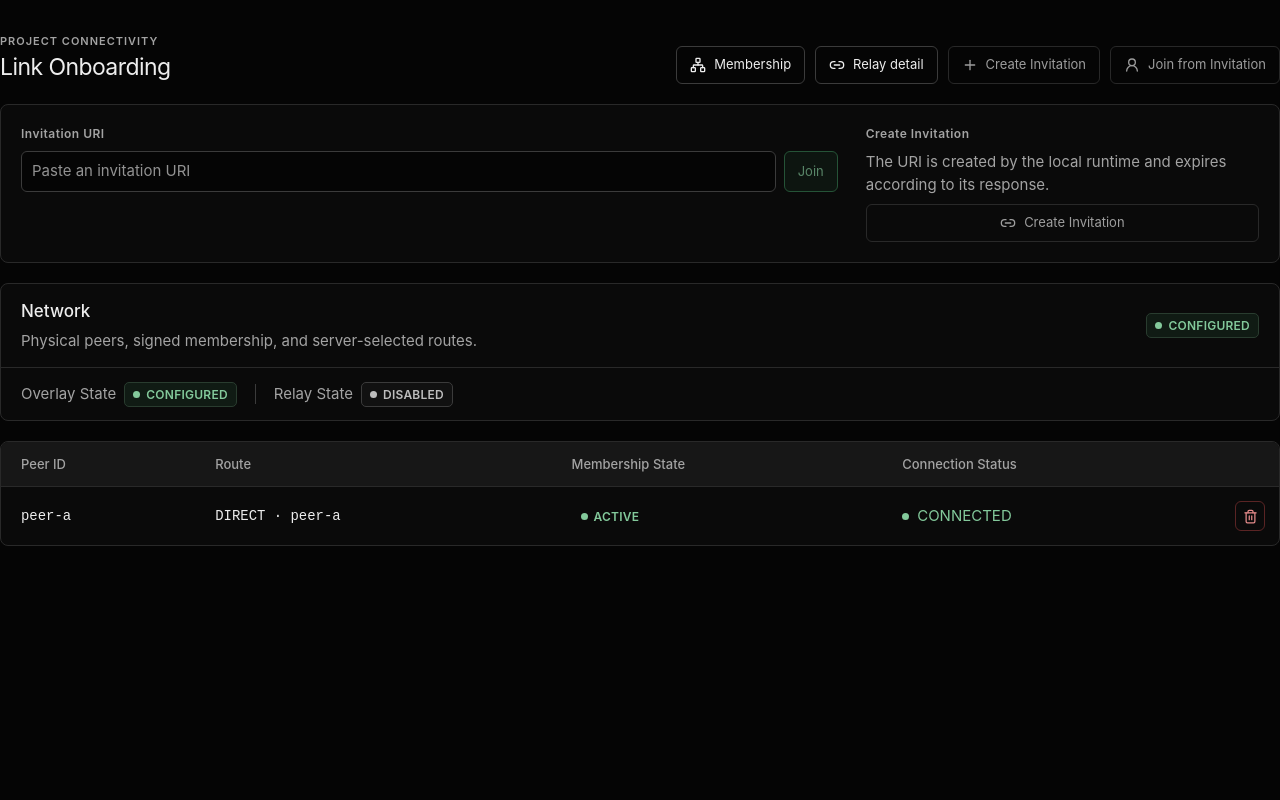
truthful product states › opens connection details from a network row and removes the route widget
Click the row "peer-a DIRECT · peer-a ACTIVE CONNECTED". click: {"x": 640, "y": 516}
box: left=1, top=487, right=1279, bottom=545
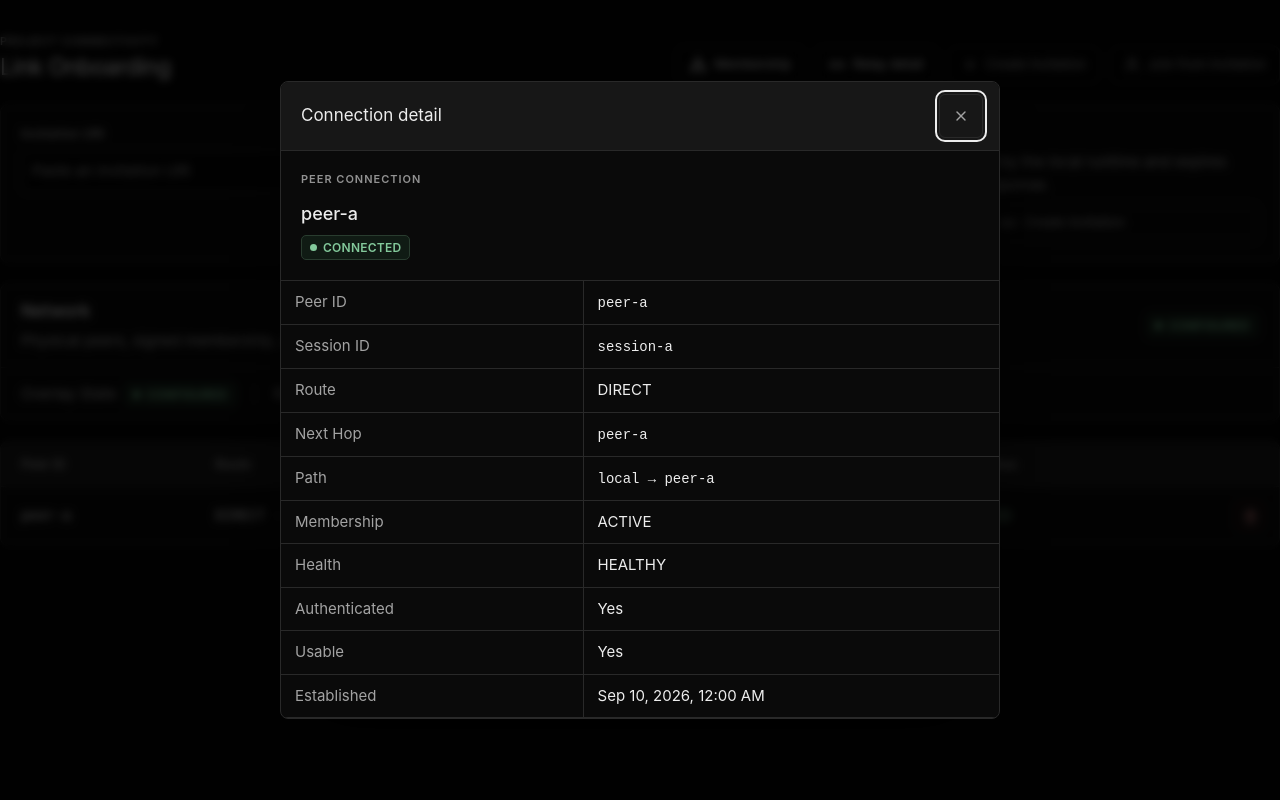
expect the dialog is shown: met, box left=280, top=81, right=1000, bottom=719
expect the heading "peer-a" is shown: met, box left=301, top=203, right=358, bottom=224
expect the text "local → peer-a" is shown: met, box left=598, top=471, right=715, bottom=487
Click the button named "Close connection detail". click: {"x": 961, "y": 116}
box: left=939, top=94, right=983, bottom=138
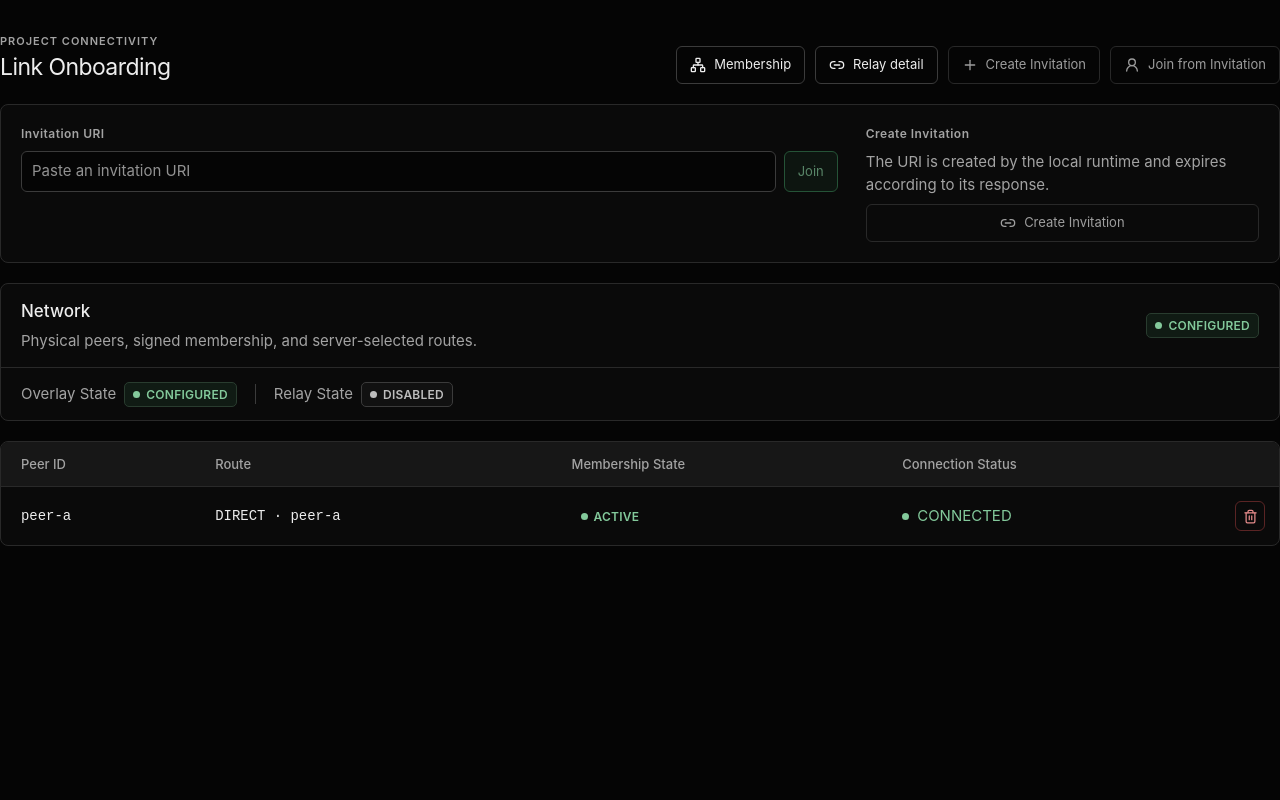
expect the dialog is gone: met
